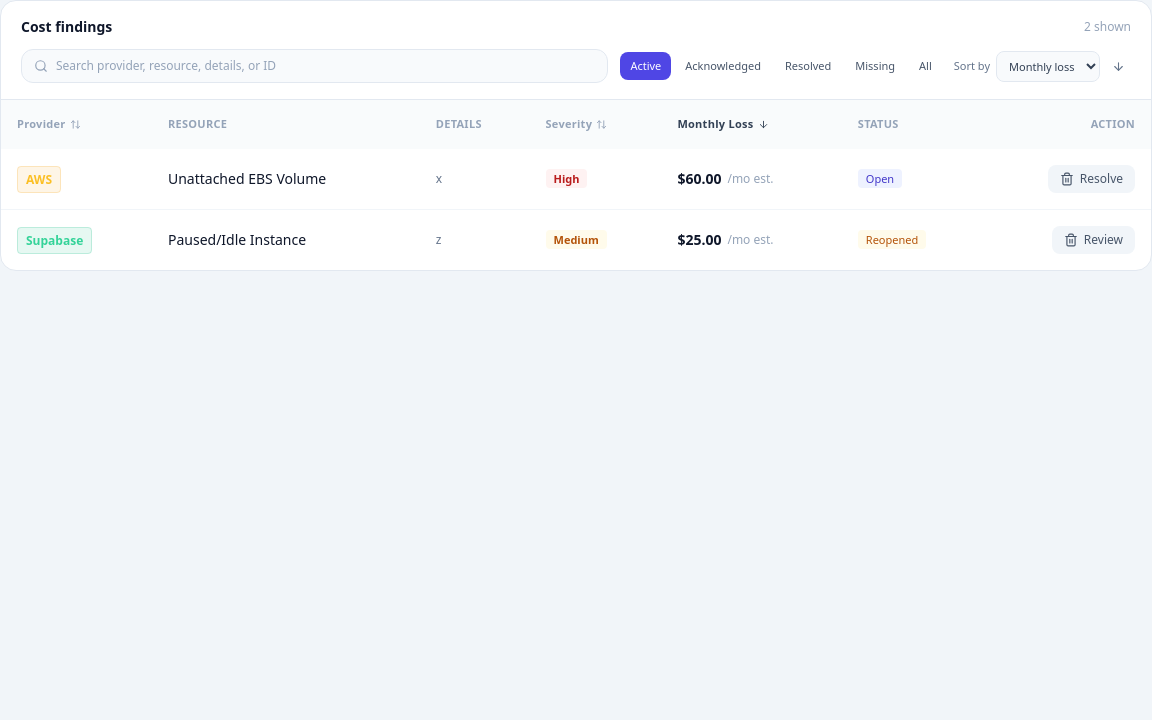
Test: WasteTable › closes the dialog on Escape
Click the button "Resolve" at (1091, 178), box [1048,164,1135,192]
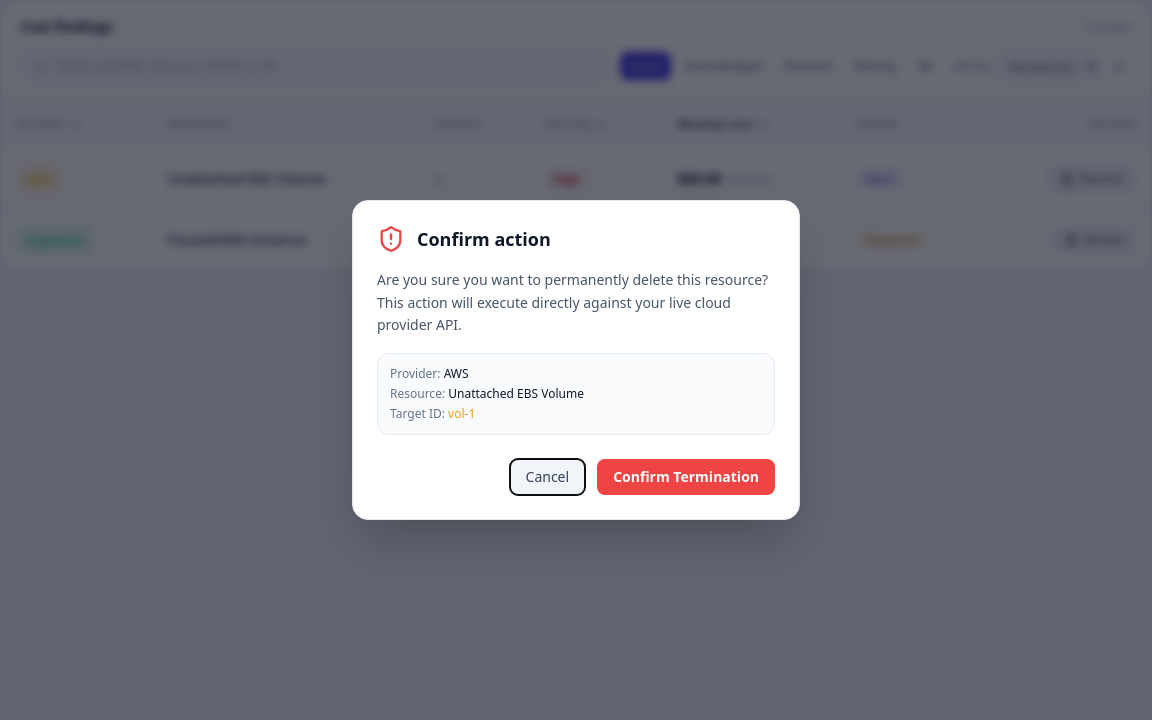
expect the dialog is shown: met, box [352,200,800,520]
Press Escape
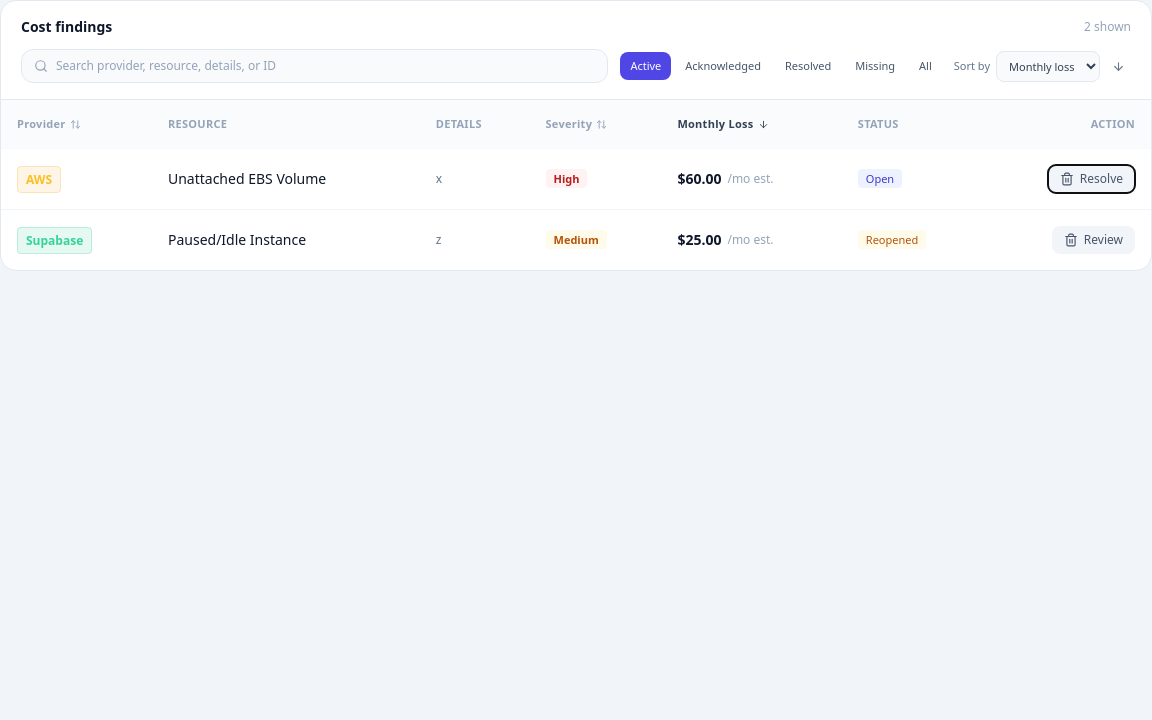
expect the dialog is gone: met
